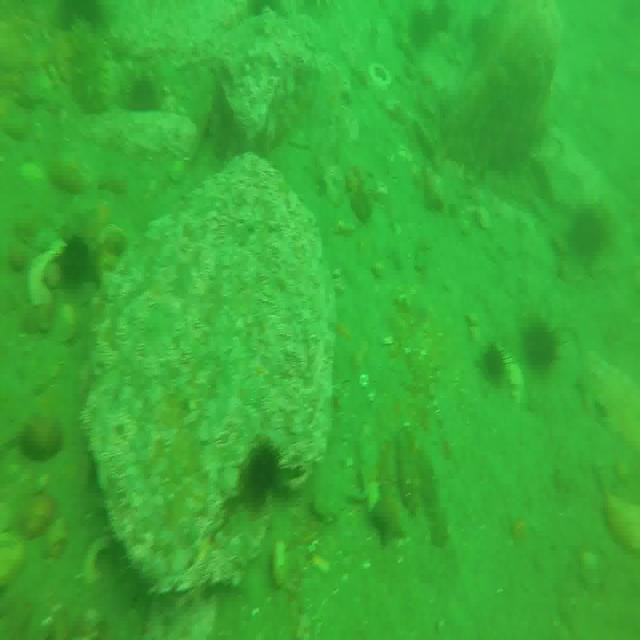echinus: (244, 436, 282, 498), (572, 203, 607, 264), (524, 319, 558, 373), (59, 238, 92, 285), (130, 73, 161, 122), (54, 0, 101, 28), (482, 339, 505, 389)
holothurian: (69, 23, 111, 116)
